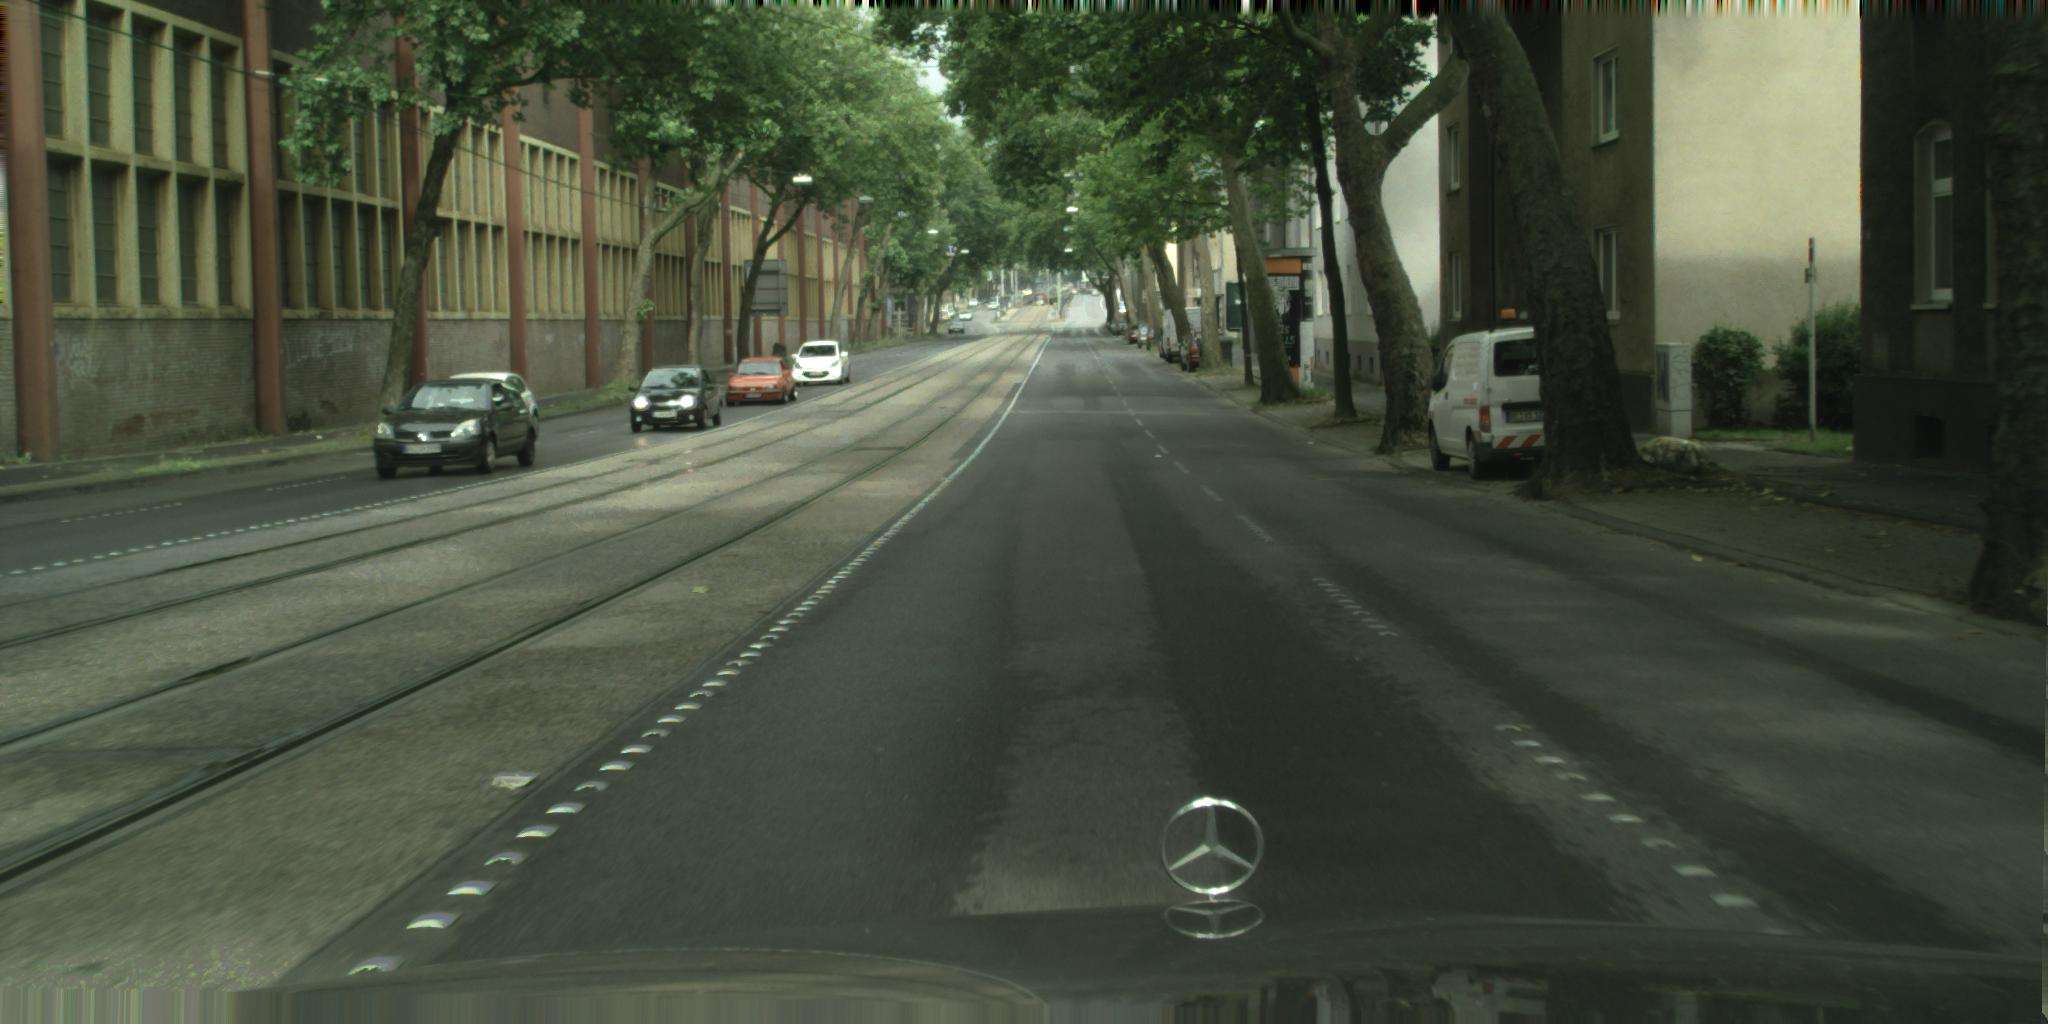car: (1428, 308, 1546, 482), (371, 377, 539, 479), (630, 364, 728, 435), (441, 370, 541, 439), (728, 357, 798, 408), (784, 340, 853, 389), (1162, 307, 1206, 364), (1179, 327, 1229, 374), (1126, 321, 1149, 346), (1159, 328, 1172, 359), (1112, 320, 1128, 338), (1138, 325, 1149, 350), (1145, 328, 1156, 353), (986, 296, 1003, 311), (950, 323, 967, 334), (960, 310, 974, 323), (1091, 290, 1101, 296)
train: (1034, 293, 1048, 307)
